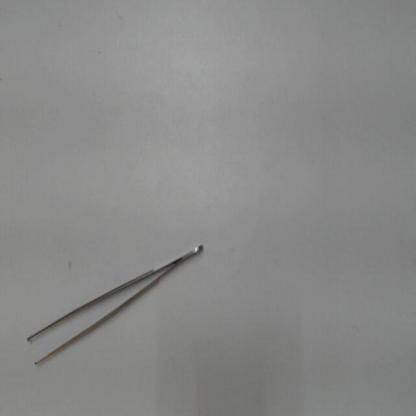Gillies Toothed Dissector: (15, 230, 213, 379)
